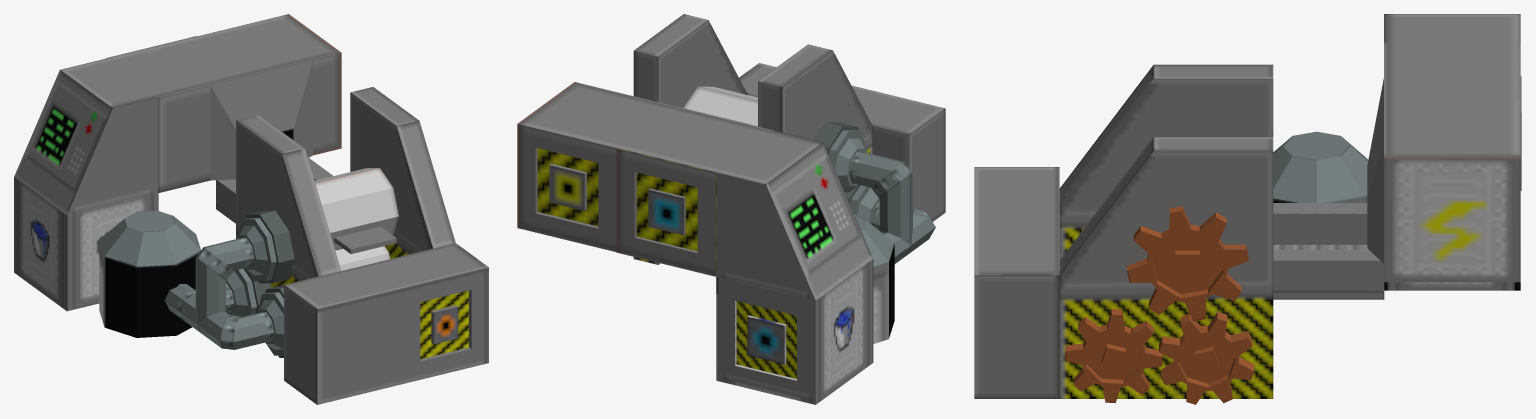
The model's file is rollingmachine_multiblock.obj.
3 renders of one model, left to right at view 1: azimuth 30°, elevation 25°; view 2: azimuth 150°, elevation 25°; view 3: azimuth 270°, elevation 25°, orthographic. The views are drawn at different scales.
Parts seen in each view (by area): view 1: Hull_Mesh, Roller1_Mesh, Plate_Mesh, Roller2_Mesh; view 2: Hull_Mesh, Roller1_Mesh; view 3: Hull_Mesh, Roller1_Mesh, Roller2_Mesh, Roller3_Mesh.
Part boxes in pixels (box(x1,y1,x2,y2)): Hull_Mesh: box(14, 14, 488, 404); Roller1_Mesh: box(314, 168, 398, 250); Plate_Mesh: box(334, 226, 396, 254); Roller2_Mesh: box(335, 246, 390, 270); Hull_Mesh: box(517, 14, 945, 404); Roller1_Mesh: box(683, 86, 757, 126); Hull_Mesh: box(974, 14, 1521, 398); Roller1_Mesh: box(1127, 206, 1248, 321); Roller2_Mesh: box(1159, 311, 1254, 404); Roller3_Mesh: box(1065, 309, 1162, 403).
Bounding box in the file's own units: 3.02 × 2 × 4.01.
